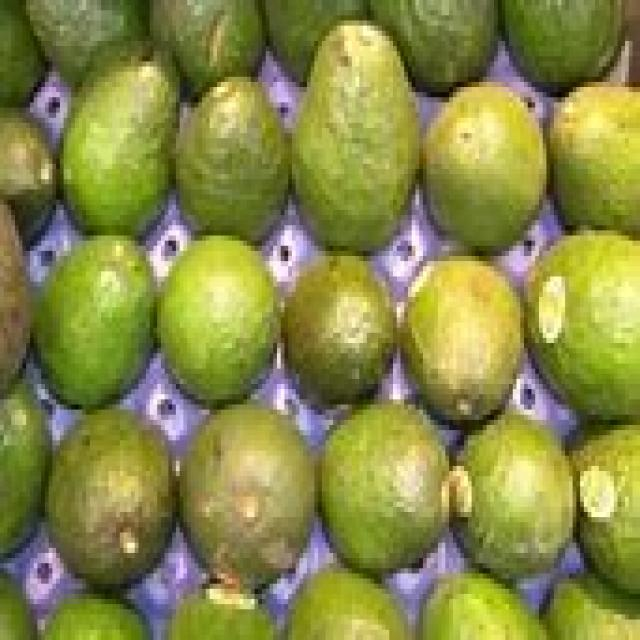Avocado: (294, 27, 419, 251), (172, 392, 319, 580), (49, 387, 179, 587), (320, 388, 449, 574), (447, 405, 577, 583), (35, 230, 164, 401), (62, 39, 177, 228), (161, 233, 284, 404), (522, 235, 640, 412), (287, 234, 402, 412), (423, 90, 547, 250), (173, 82, 294, 238), (407, 252, 521, 398), (550, 78, 638, 229), (573, 426, 640, 583), (508, 0, 627, 76), (0, 96, 66, 224), (0, 202, 37, 406), (415, 3, 498, 88)
